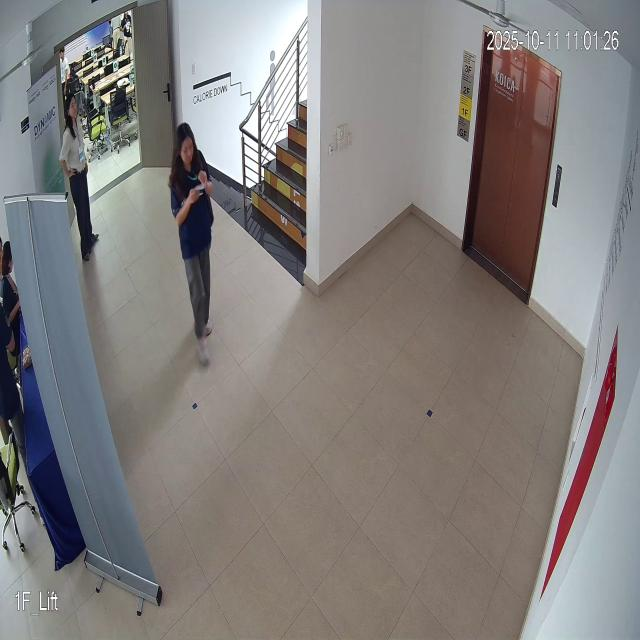face: (170, 118, 202, 176)
